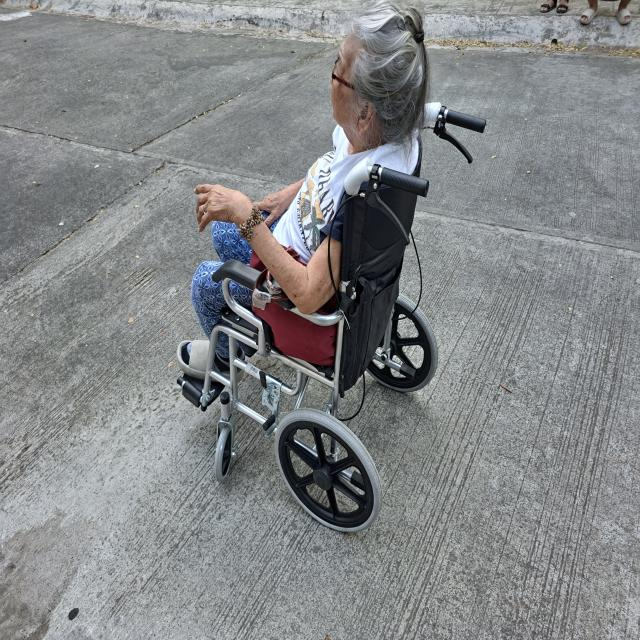wheelchairs: (179, 101, 492, 548)
